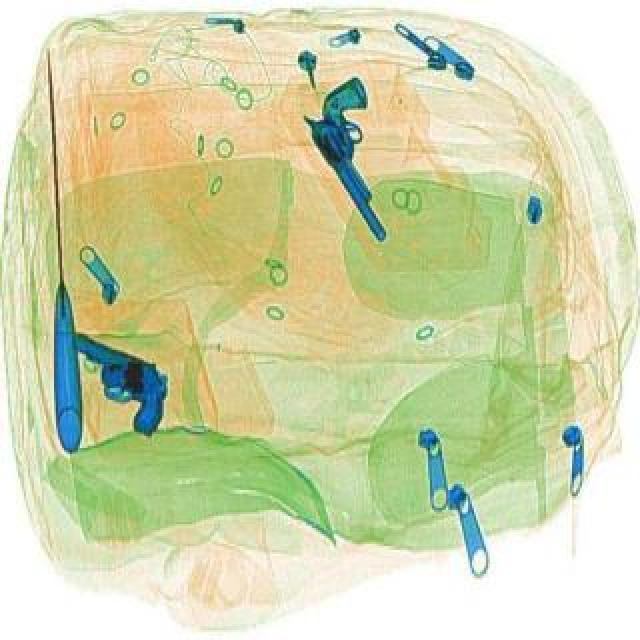gun: (292, 80, 444, 248), (48, 338, 184, 442)
knife: (32, 50, 84, 458)
